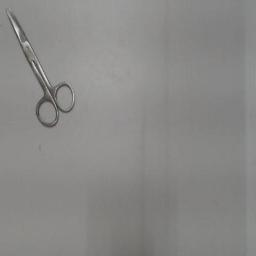Dressing Scissors: (3, 2, 79, 132)
